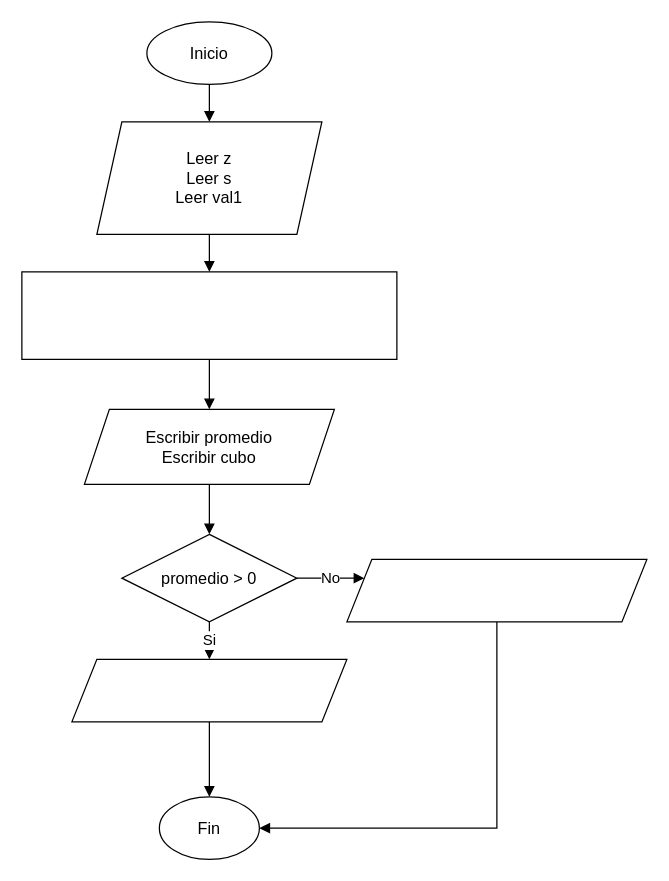
Image size: 669x881. Some labels were removed from this diagram. Here are the shapes that lost their labels. From the top down, the centre of each, then its label:
(209,315): promedio = (z + s + val1) / 3.0 cubo = promedio * promedio * promedio
(496,590): Escribir "El promedio no es positivo"
(209,690): Escribir "El promedio es positivo"
